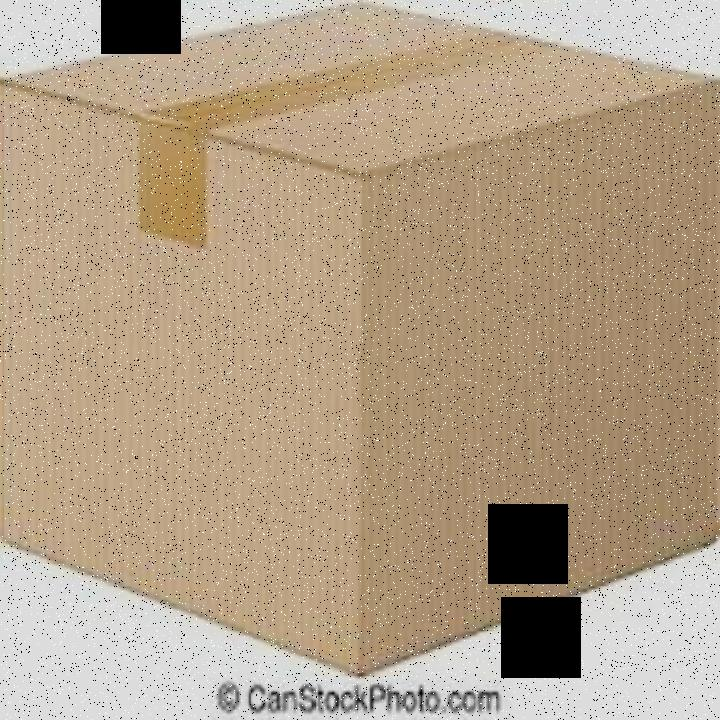box: (4, 3, 720, 673)
